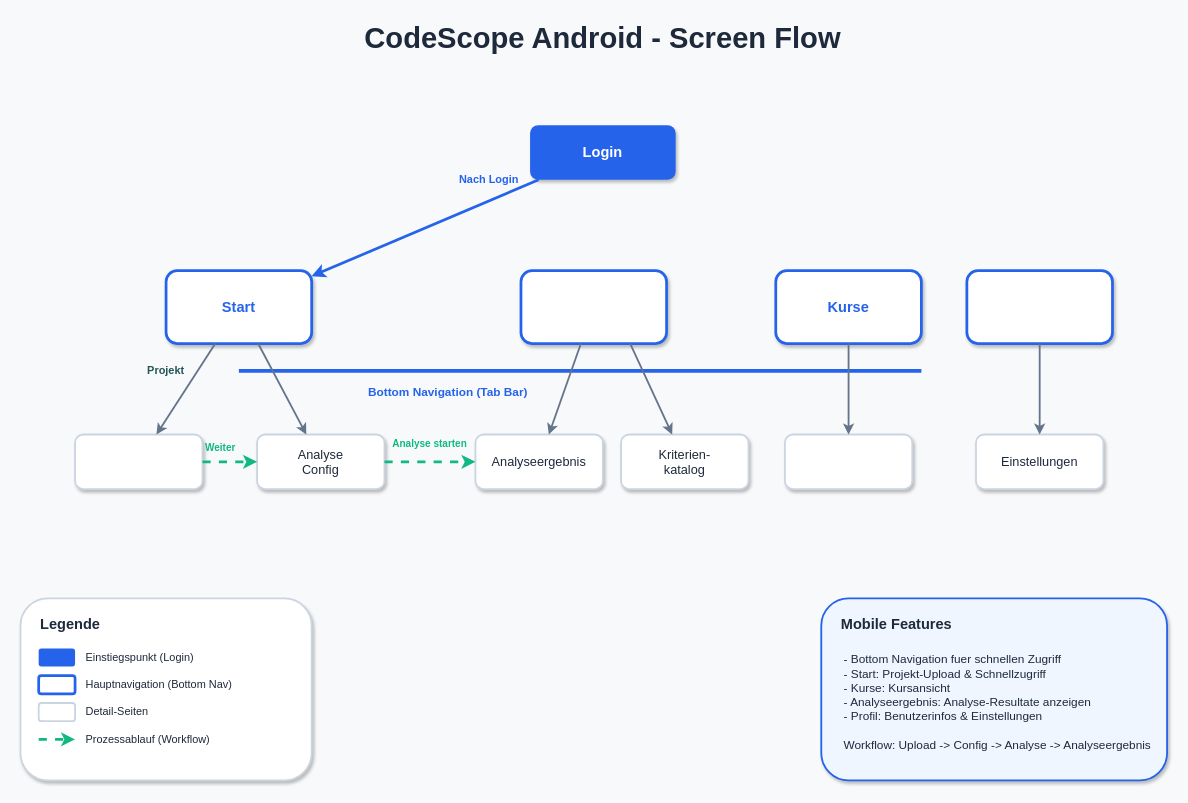
Some shapes in this 1188 by 803 pixel diagram are drawn without their labels. Here are the shapes that lost their labels. From the top down, the centre of each, then its label:
point 594,308: Analyse
point 1040,308: Profil
point 139,463: Projekt Upload
point 849,463: Kurs- Details
